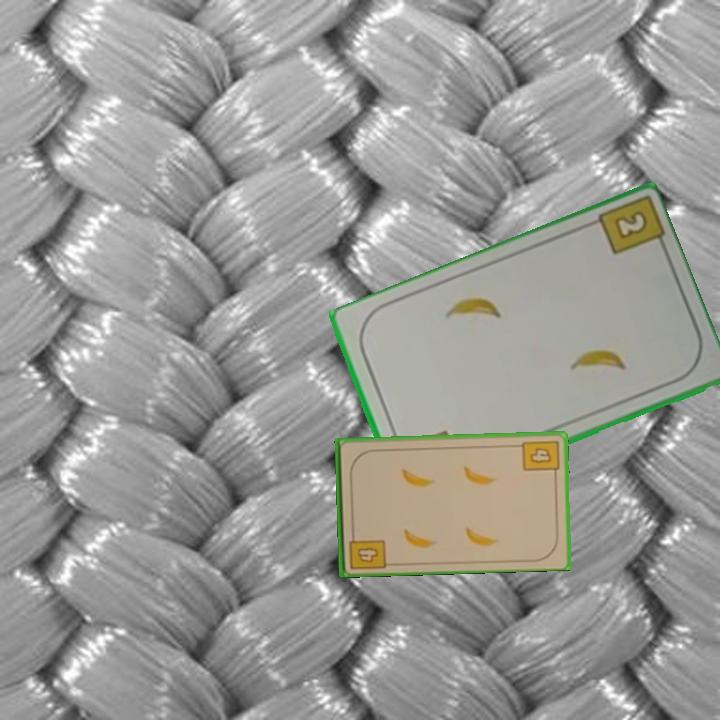2b: (610, 207, 651, 243)
4b: (345, 527, 388, 572), (519, 437, 562, 479)
